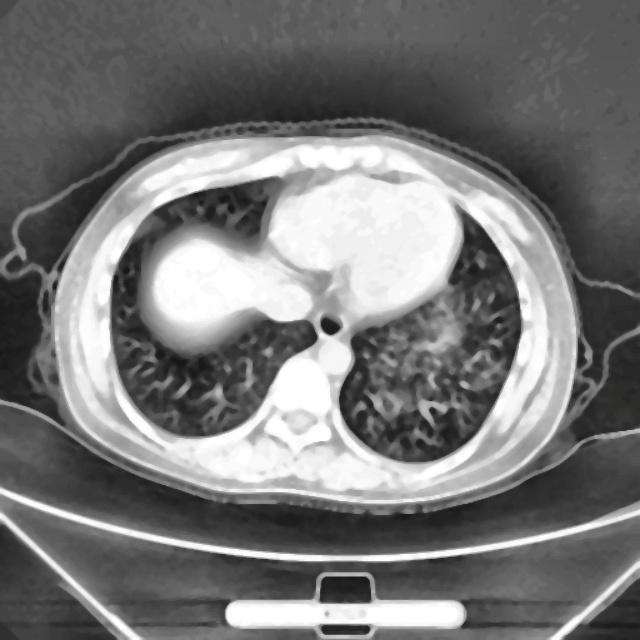covid: (32, 120, 585, 514)
